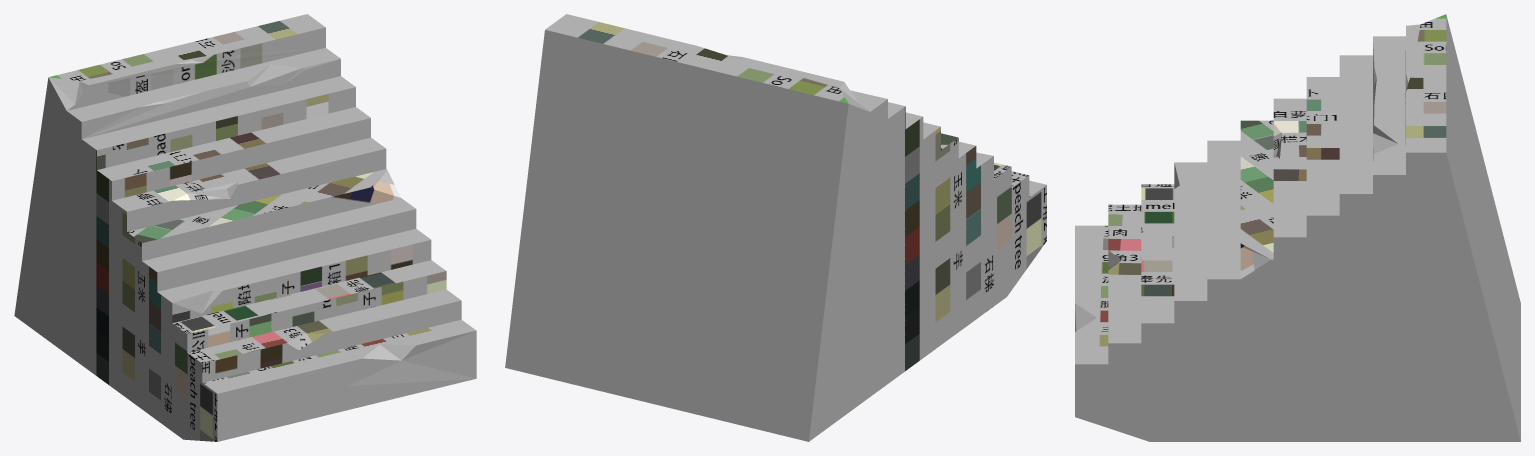
The picture shows the model from 3 angles, left to right: view 1: azimuth 30°, elevation 25°; view 2: azimuth 150°, elevation 25°; view 3: azimuth 270°, elevation 25°; orthographic projection. The views are drawn at different scales.
Visible parts, largest first — view 1: shiti2; view 2: shiti2; view 3: shiti2.
Part boxes in pixels (x1=…): shiti2: x1=14, y1=14, x2=476, y2=441; shiti2: x1=505, y1=14, x2=1046, y2=441; shiti2: x1=1075, y1=14, x2=1520, y2=441.
Bounding box in the file's own units: 350 × 340 × 475.
